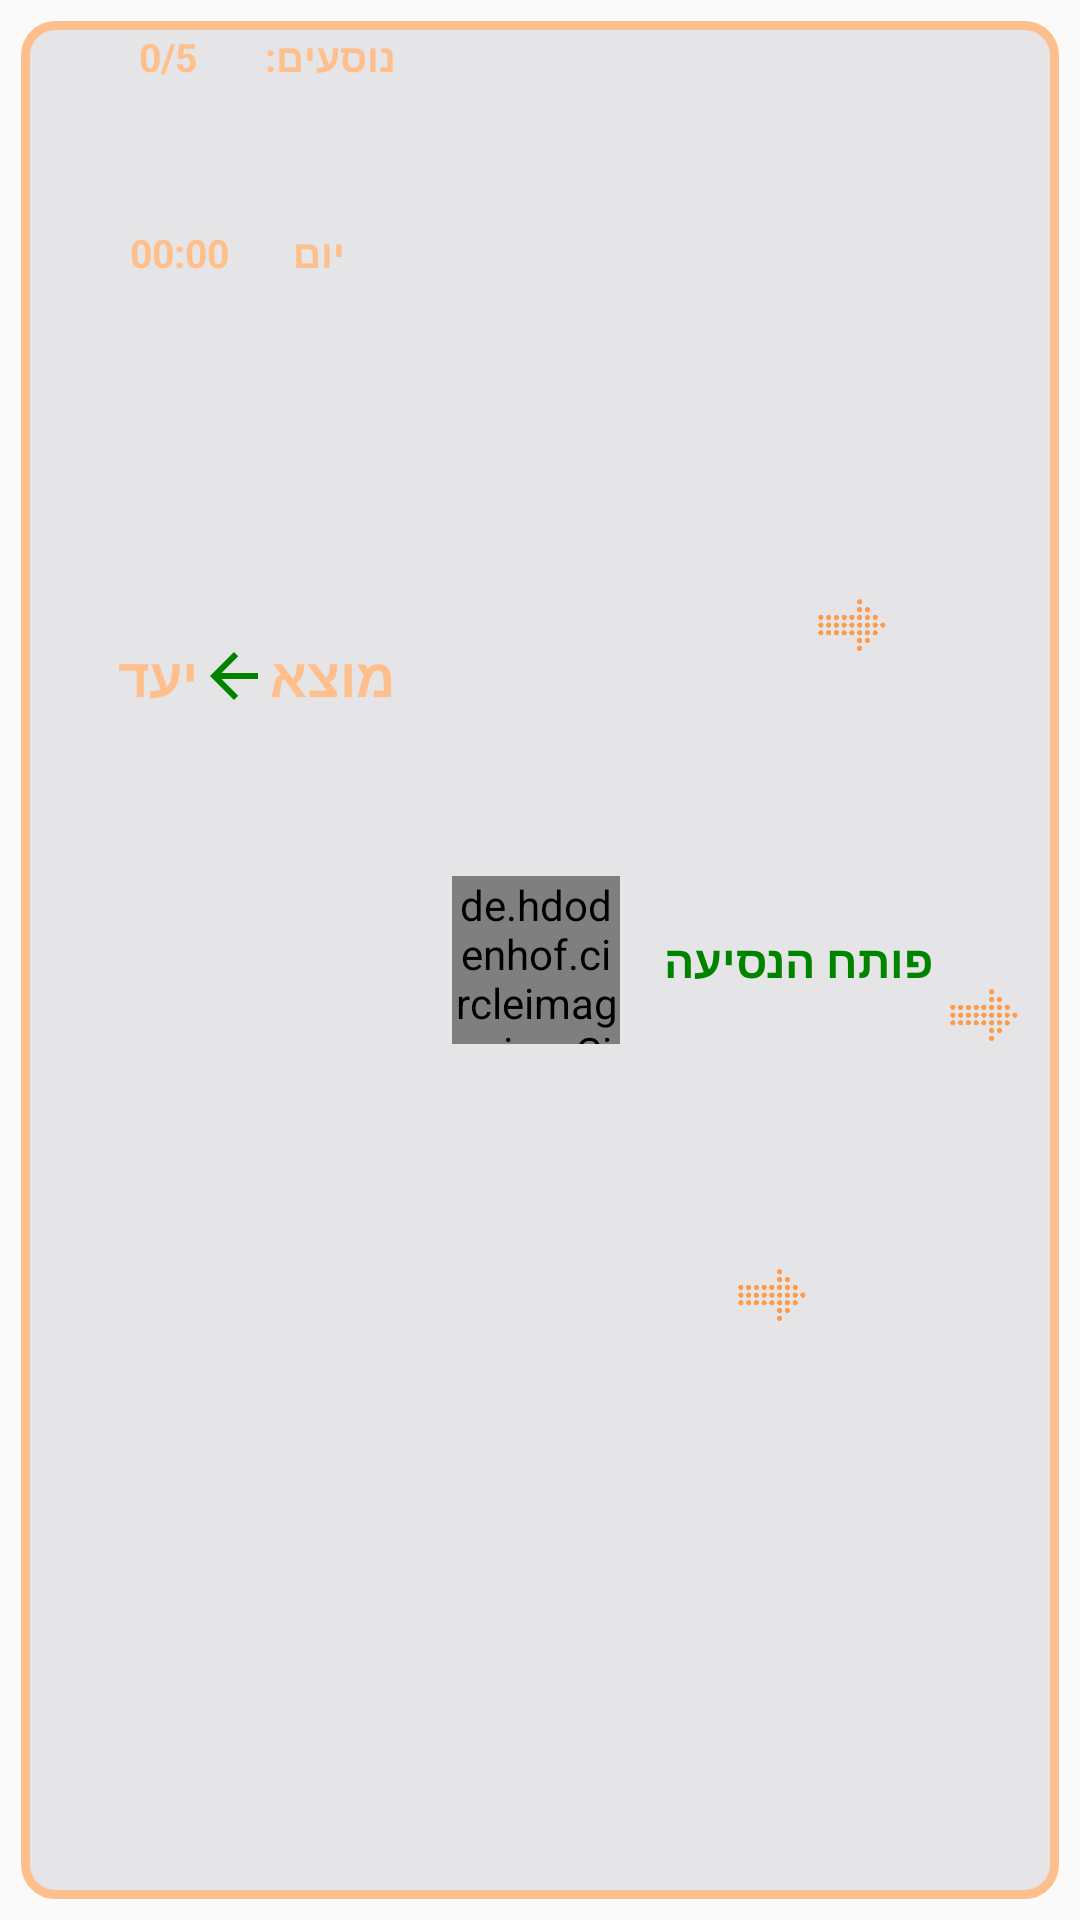

Named icons in this screenshot (1080*1920) and their centers, [x,y]:
arrow: [852,625], [984,1015], [772,1295]
left direction arrow: [234,676]
